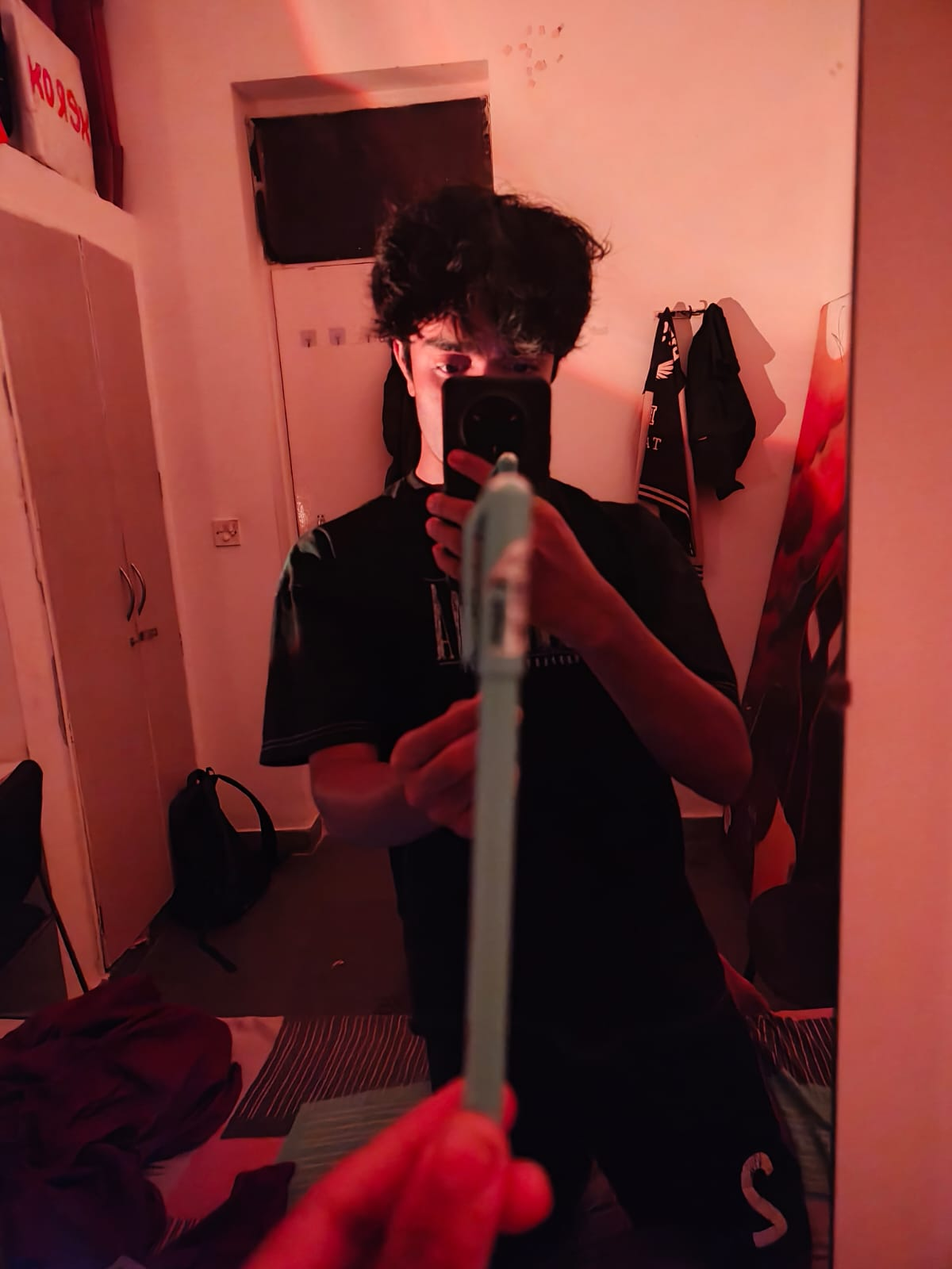pen: (465, 464, 549, 1143)
